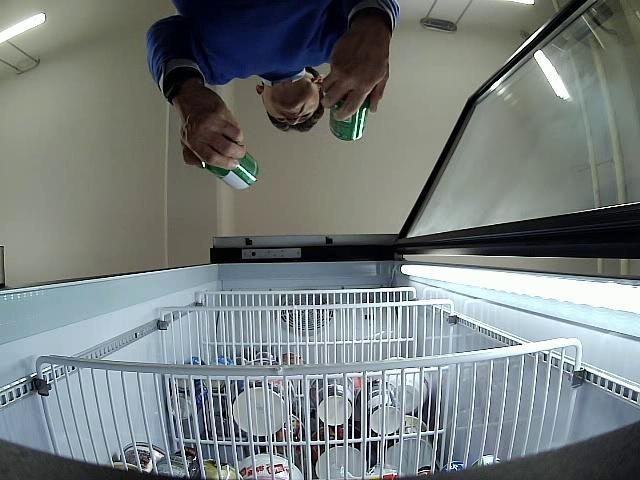12_chilsungCider: (206, 136, 258, 192), (329, 92, 368, 142)
